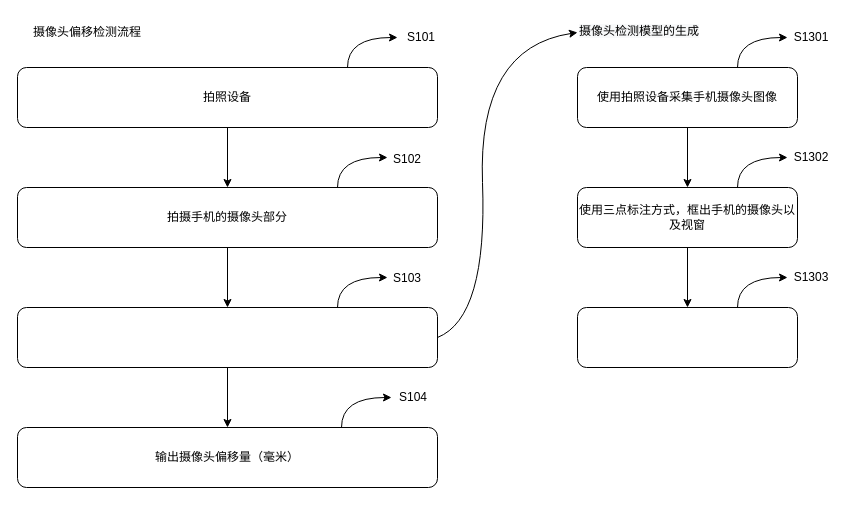
The diagram is 859 pixels wide and 505 high, and some of its shapes have lost their labels. Each missing label, with the centre of its shape:
"使用摄像头检测模型检测摄像头位置" belongs at point 227,337.
"训练手机摄像头检测模型" belongs at point 687,337.
